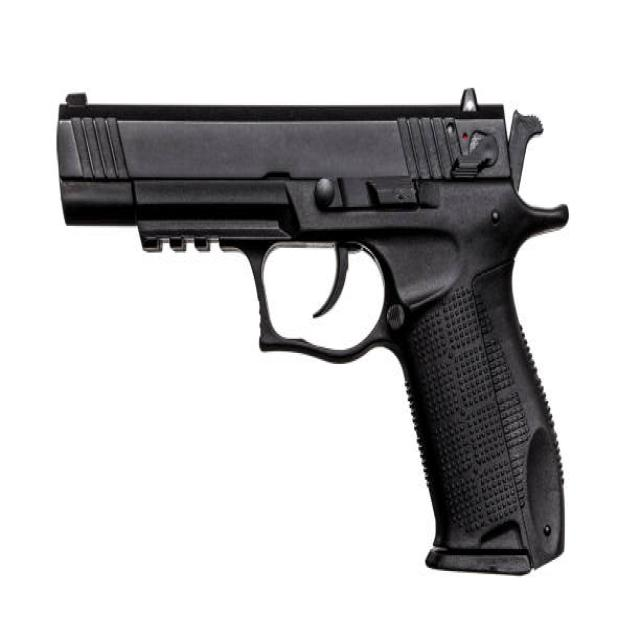pistol: (51, 78, 577, 589)
